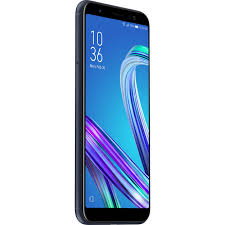asus: (72, 1, 152, 225)
